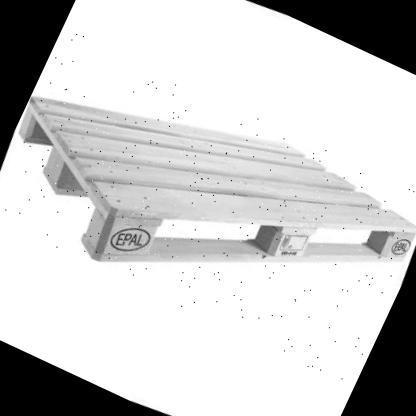pallet: (19, 91, 415, 265)
